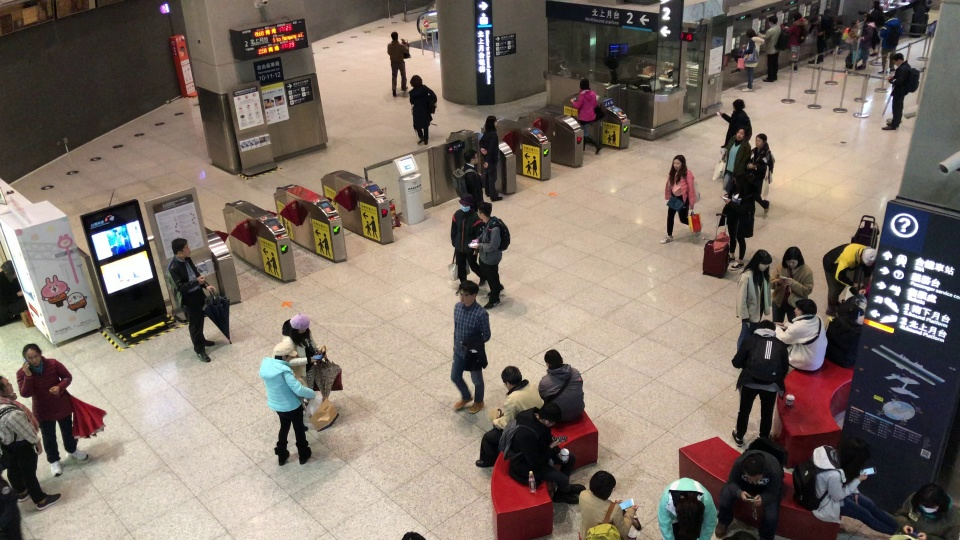person_head: (838, 436, 870, 475), (588, 469, 617, 499), (918, 486, 943, 516), (743, 454, 767, 483), (500, 364, 523, 392), (537, 403, 561, 427), (676, 503, 701, 525), (21, 342, 42, 367), (783, 245, 804, 270), (457, 280, 478, 303), (793, 298, 818, 317), (170, 236, 191, 257), (542, 348, 564, 368), (273, 342, 296, 361), (290, 313, 310, 334), (753, 250, 772, 272), (862, 246, 877, 268), (456, 194, 473, 211), (477, 202, 493, 220), (0, 259, 16, 277), (463, 148, 479, 164), (0, 375, 13, 394), (734, 127, 749, 142), (755, 132, 768, 149), (758, 319, 776, 331), (409, 73, 423, 88), (671, 155, 686, 169), (485, 115, 498, 131), (891, 52, 905, 66), (732, 98, 745, 111), (579, 77, 591, 90), (734, 172, 745, 186), (808, 13, 820, 23), (768, 15, 778, 26), (792, 11, 802, 21), (745, 29, 757, 37), (863, 12, 872, 22), (390, 31, 399, 40), (851, 19, 859, 29), (887, 10, 896, 18)
person_vbox: (790, 434, 901, 536), (14, 343, 88, 477), (499, 403, 586, 506), (0, 374, 61, 511), (712, 436, 789, 540), (730, 319, 790, 448), (258, 342, 316, 465), (475, 365, 543, 468), (164, 237, 217, 364), (447, 278, 492, 414), (281, 312, 329, 429), (468, 202, 512, 311), (577, 470, 642, 540), (821, 242, 877, 315), (716, 169, 756, 270), (889, 483, 959, 540), (449, 193, 488, 295), (734, 249, 772, 353), (774, 298, 828, 371), (658, 154, 701, 244), (657, 477, 717, 540), (538, 348, 584, 426), (769, 244, 815, 322), (879, 51, 920, 132), (569, 77, 606, 156), (717, 99, 753, 163), (478, 115, 504, 202), (408, 74, 438, 147), (757, 15, 789, 83), (720, 128, 751, 194), (751, 132, 775, 217), (451, 149, 486, 204), (736, 29, 765, 93), (780, 10, 809, 74), (0, 260, 28, 326), (878, 9, 903, 76), (387, 30, 410, 96), (855, 12, 880, 70), (807, 11, 831, 63), (840, 19, 860, 70)
